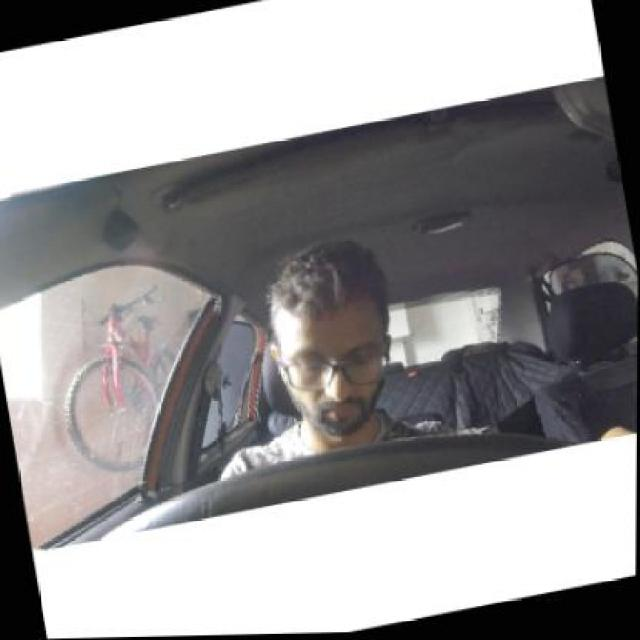drowsy: (256, 255, 404, 433)
